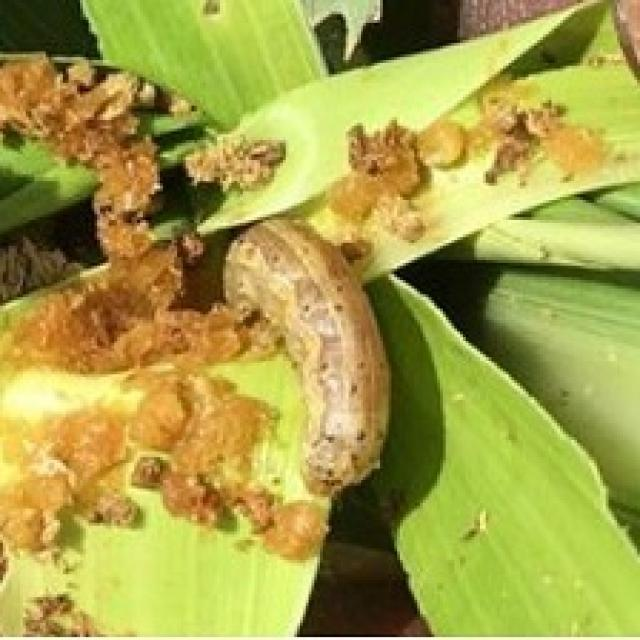worm: (221, 215, 392, 498)
